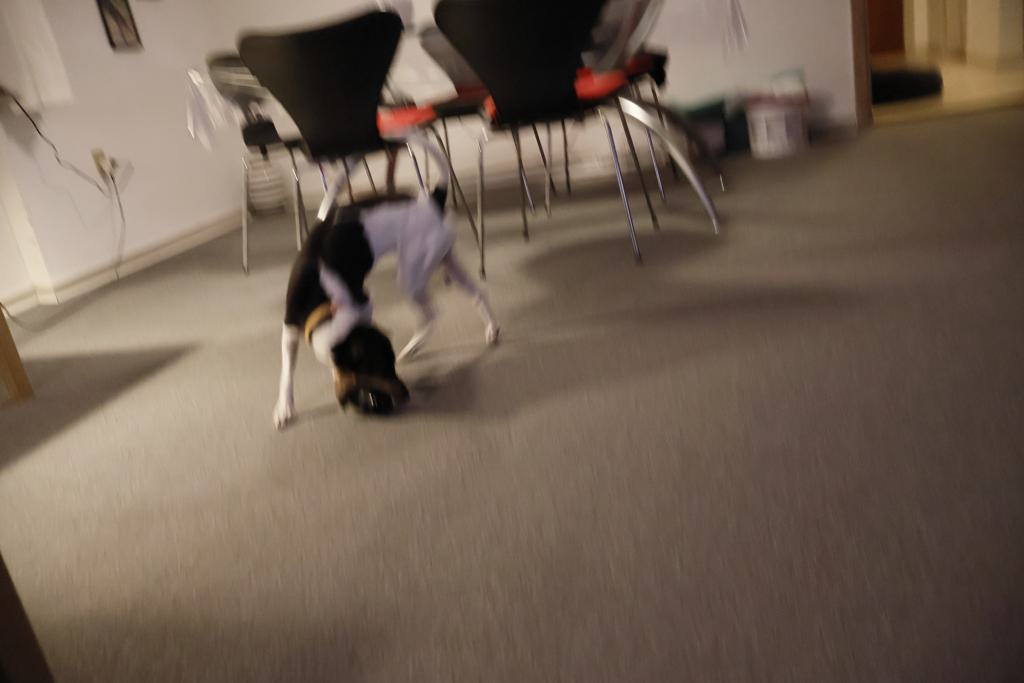Dog: (257, 102, 514, 441)
